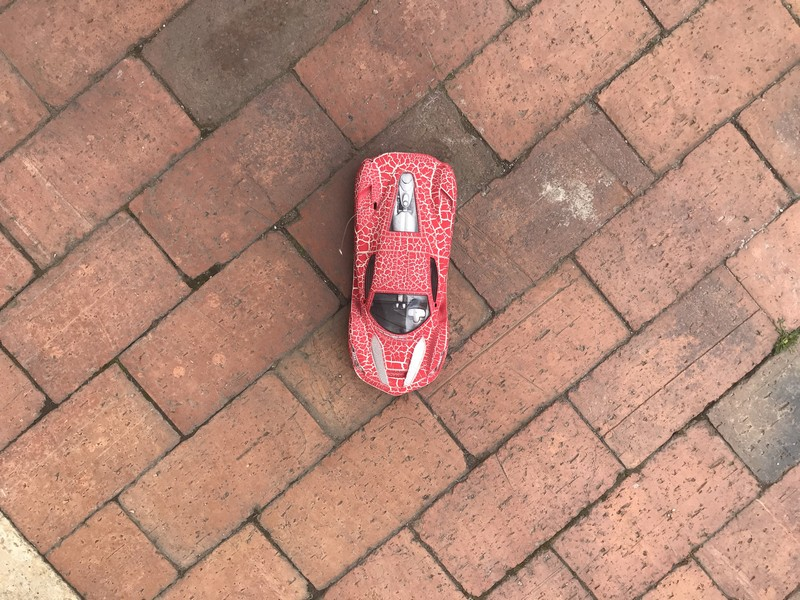RC: (346, 149, 459, 397)
